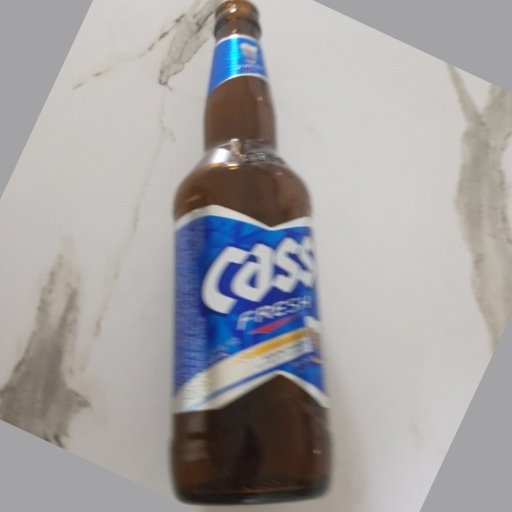Glass_1: (174, 1, 333, 502)
